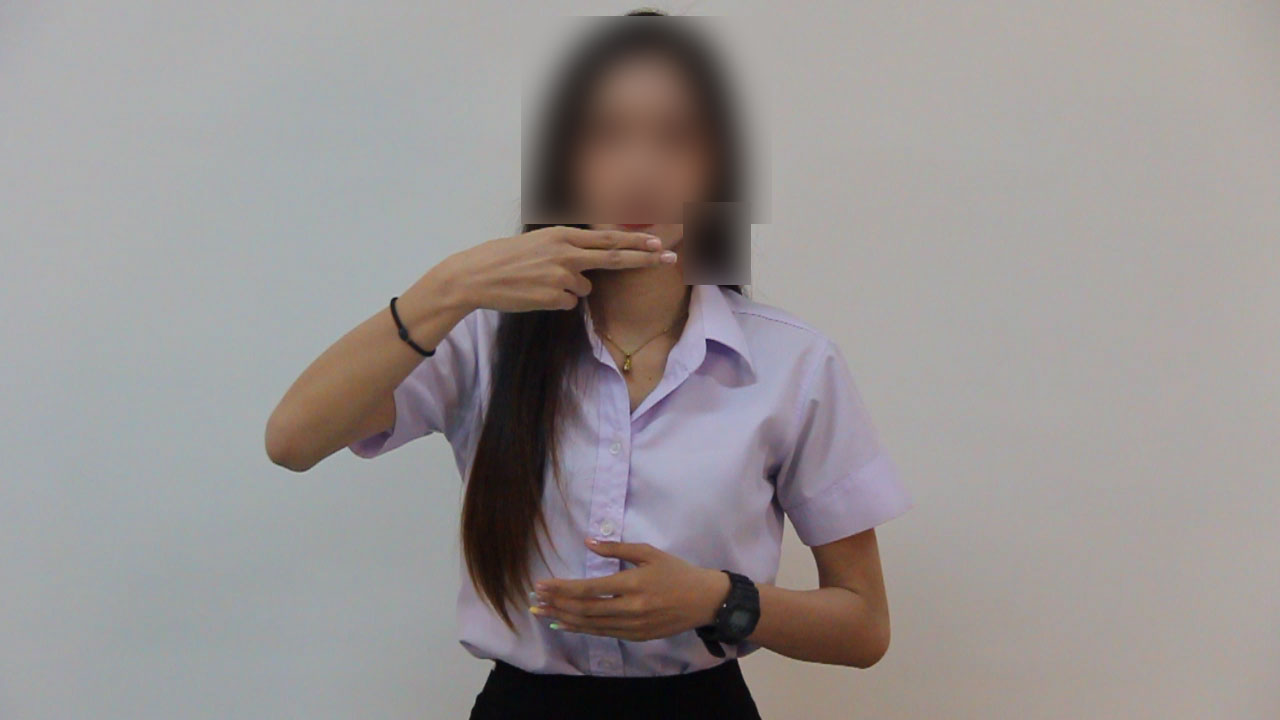hor: (443, 213, 685, 331)
